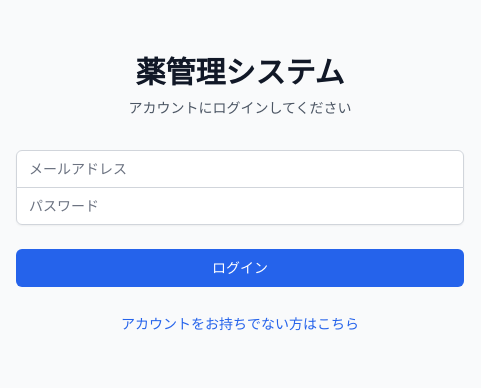
Test: LoginForm › フォーム送信 › ログインエラー時にエラーメッセージが表示される
The image size is (481, 388).
Expected: the text "認証に失敗しました" is not shown
// フォームに入力 
Type "test@example.com" into the field with placeholder "メールアドレス".
click(240, 168); type("test@example.com")  # box top-left (16, 150), bottom-right (464, 188)
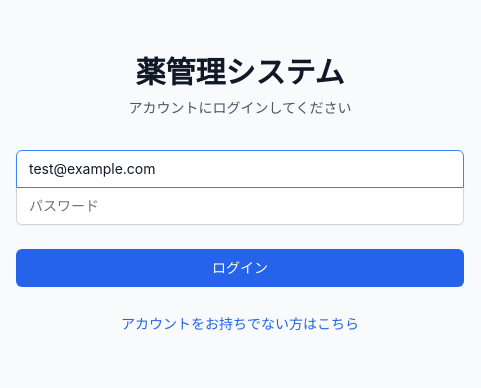
Type "wrongpassword" into the password field with placeholder "パスワード".
click(240, 206); type("wrongpassword")  # box top-left (16, 186), bottom-right (464, 224)
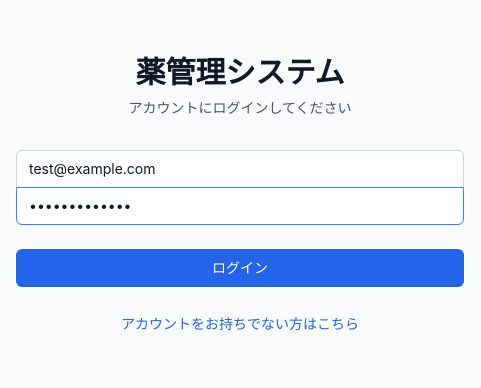
// ログインボタンをクリック
Click the button "ログイン".
click(240, 268)  # box top-left (16, 248), bottom-right (464, 286)
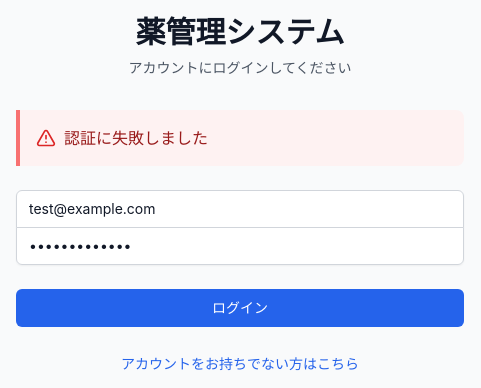
Result: the text "認証に失敗しました" is shown at top-left (64, 126), bottom-right (208, 150)
Result: the message "認証に失敗しました" is shown at top-left (16, 110), bottom-right (464, 166)
